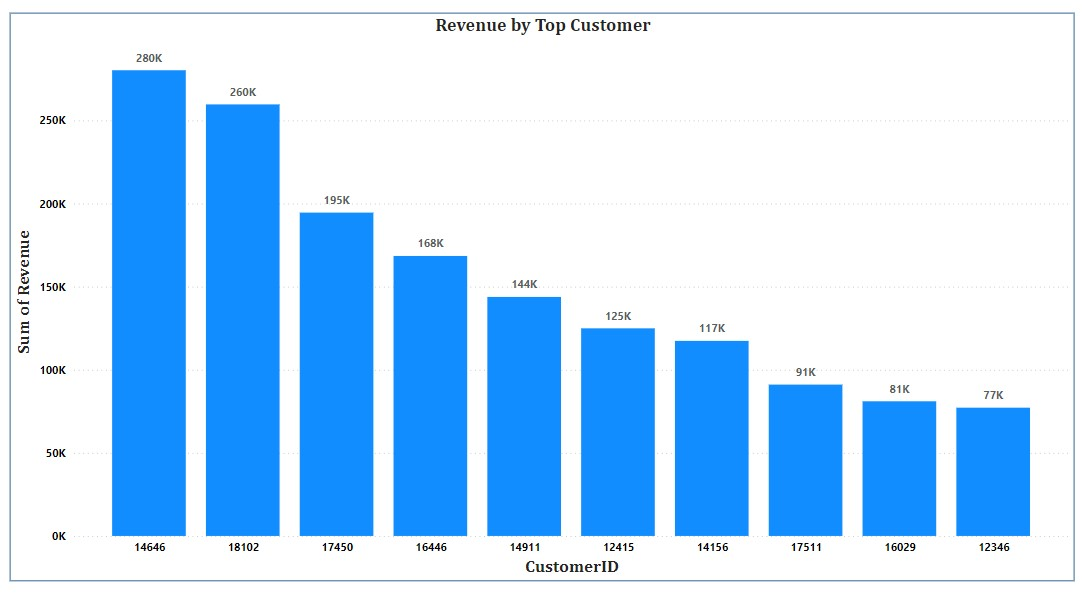

The page's visual inventory and layout, read from the dashboard file:
{"tool":"powerbi","page":{"name":"Question 3","canvas":[1280,720],"ordinal":2},"visuals":[{"type":"clusteredColumnChart","title":"Revenue by Top Customer","fields":{"Category":["Online Retail.CustomerID"],"Y":["Sum(Online Retail.Revenue)"]},"box":[59,48,1169.1,624.4],"z":0}]}

Visuals, with their boxes in screenshot pixels (x1, y1, x2, y2), scaled from the page's 1280x720 canvas onto the 1082x595 screenshot:
"Revenue by Top Customer" clusteredColumnChart: l=50, t=40, r=1038, b=556
